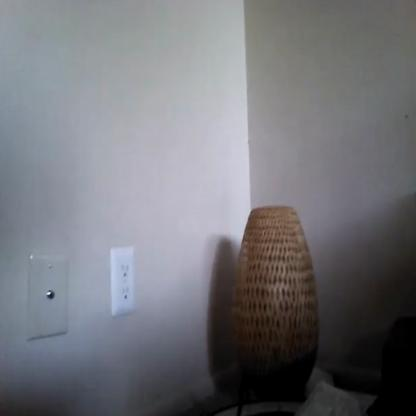OUTLET: (111, 247, 136, 317)
